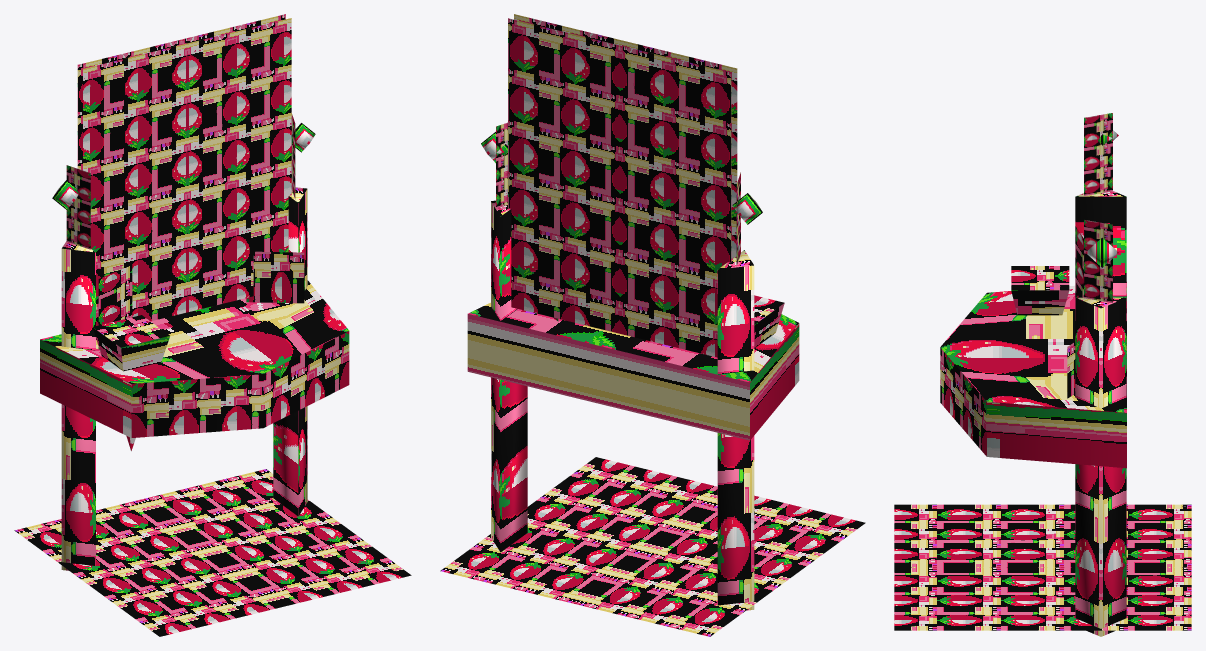
File: 3696kg_it_dre.gltf
The picture shows the model from 3 angles, left to right: view 1: azimuth 30°, elevation 25°; view 2: azimuth 150°, elevation 25°; view 3: azimuth 270°, elevation 25°; orthographic projection. The views are drawn at different scales.
Visible parts, largest first — view 1: 3696kg_it_dre; view 2: 3696kg_it_dre; view 3: 3696kg_it_dre.
Boxes of the visible parts, left/top/right/bottom form: 3696kg_it_dre: left=14, top=14, right=411, bottom=636; 3696kg_it_dre: left=440, top=14, right=865, bottom=636; 3696kg_it_dre: left=894, top=113, right=1191, bottom=636.
Bounding box in the file's own units: 0.9204 × 1.66 × 0.8804.
1 material, 1 textured.
